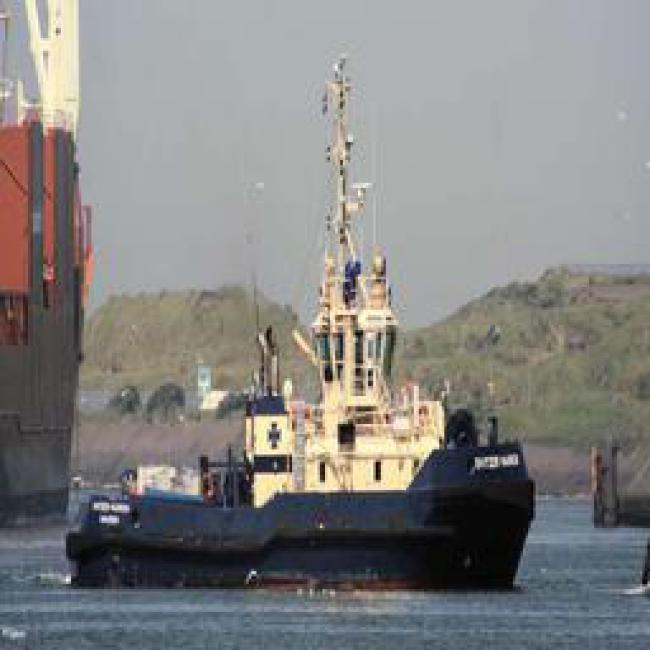Ship: (59, 289, 552, 592)
